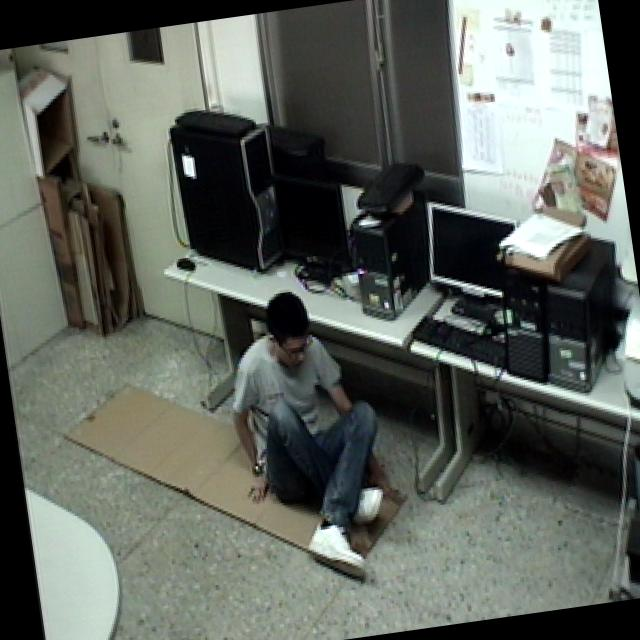sit: (209, 280, 416, 604)
